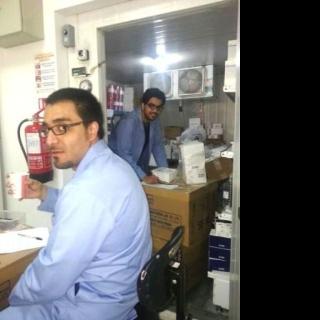without_mask: (145, 98, 163, 121)
